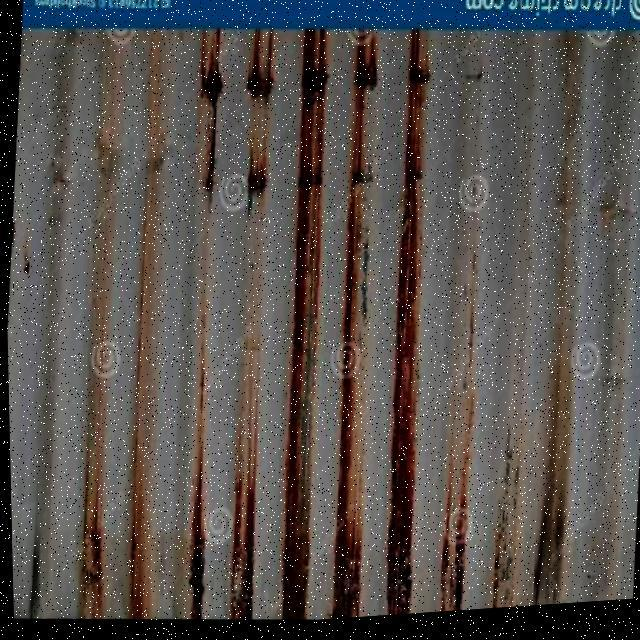rust: (314, 30, 398, 625), (262, 30, 344, 627), (368, 32, 447, 622), (189, 29, 230, 200), (223, 447, 261, 625), (178, 466, 212, 624), (431, 502, 470, 619), (242, 31, 280, 117), (74, 510, 106, 612), (242, 151, 270, 221)
